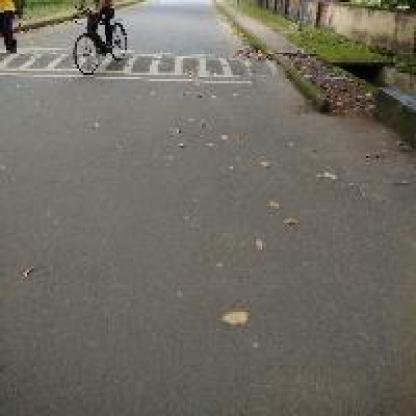Speed Bump: (127, 54, 272, 77)
